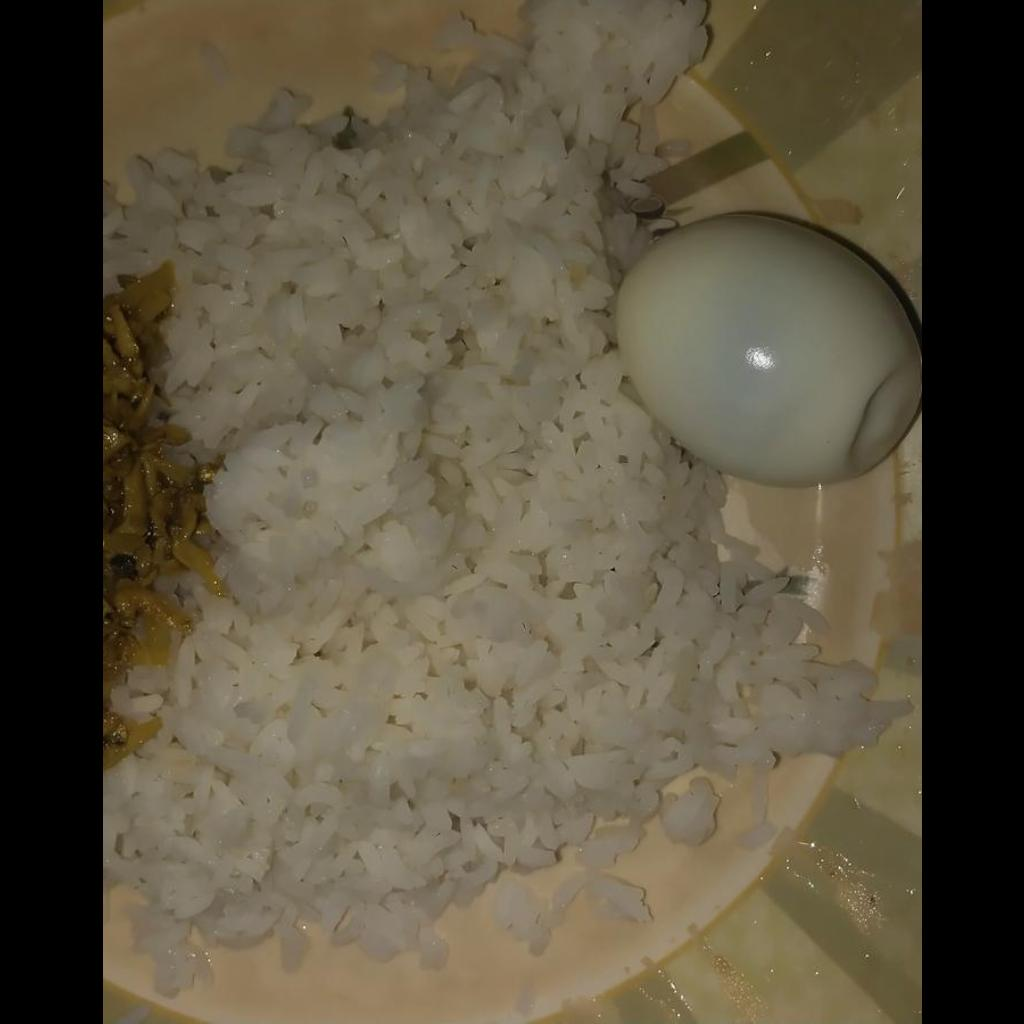egg-boiled: (616, 207, 916, 487)
rice: (102, 0, 914, 992)
